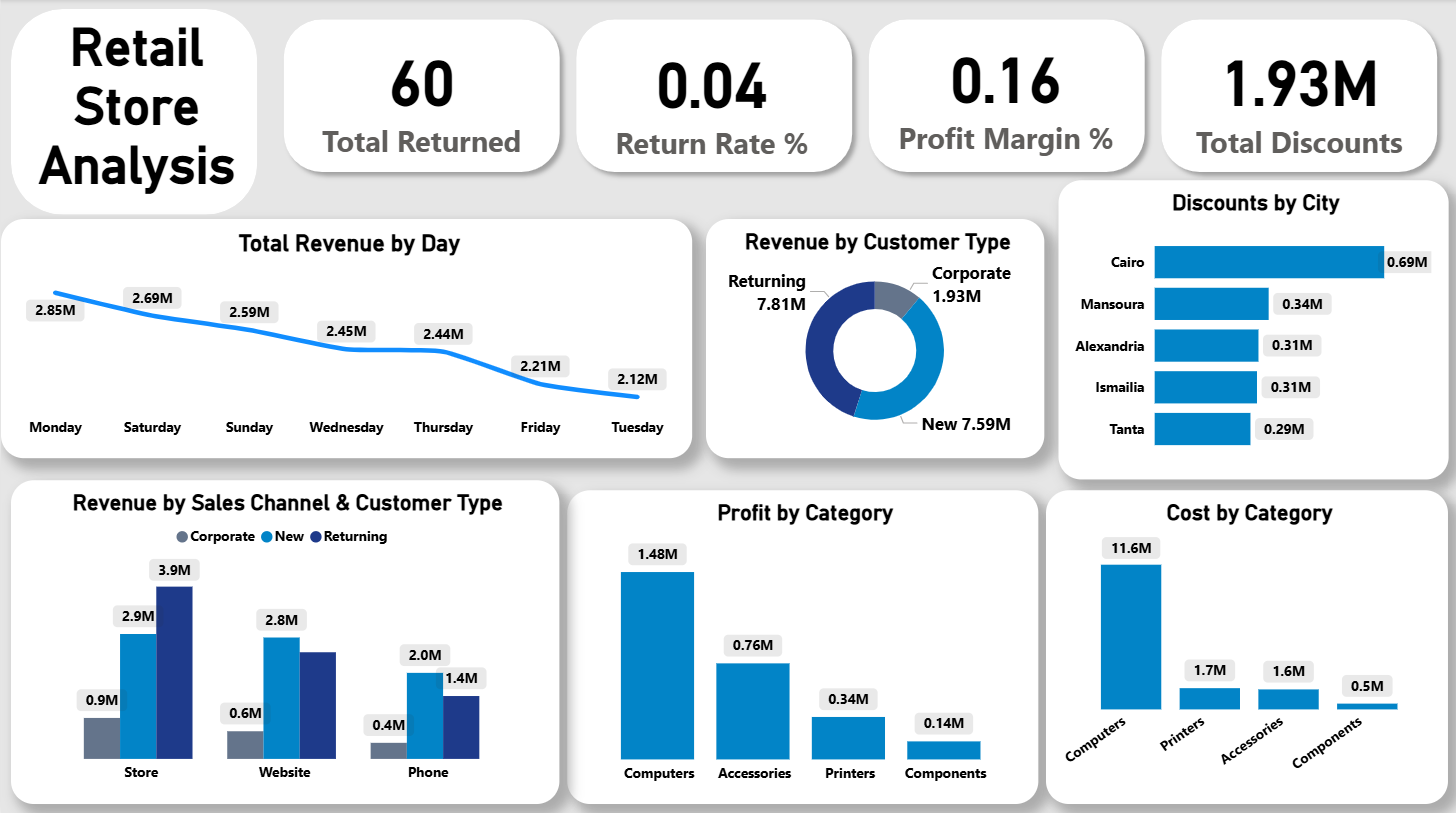

What the dashboard file says about the page in this screenshot:
{"tool":"powerbi","page":{"name":"Financial Analysis","canvas":[1280,720],"ordinal":1},"visuals":[{"type":"shape","box":[496.8,8.3,260.7,152.4],"z":0},{"type":"shape","box":[239.3,8.3,260.7,152.4],"z":1000},{"type":"shape","box":[8.3,8.3,216.7,181],"z":2000},{"type":"textbox","title":"Retail Store Analysis","box":[0,15.5,239.3,189.3],"z":3000},{"type":"card","fields":{"Values":["Measures (2).Total Returned"]},"box":[251.2,0,239.3,167.9],"z":4000},{"type":"shape","box":[1011.9,8.3,260.7,152.4],"z":5000},{"type":"shape","box":[754.4,8.3,260.7,152.4],"z":6000},{"type":"card","fields":{"Values":["Measures (2).Return Rate %"]},"box":[506,0,239.3,171.4],"z":7000},{"type":"card","fields":{"Values":["Measures (2).Profit Margin %"]},"box":[760.7,0,246.4,163.1],"z":8000},{"type":"card","fields":{"Values":["Measures (2).Total Discounts Given"]},"box":[1022.6,0,239.3,169],"z":9000},{"type":"columnChart","title":"Profit by Category","fields":{"Category":["data_detective_sales_training.Category"],"Y":["Measures (2).Total Profit"]},"box":[497.6,432.1,414.3,276.2],"z":10000},{"type":"lineChart","title":"Total Revenue by Day","fields":{"Category":["data_detective_sales_training.Day"],"Y":["Measures (2).Total Revenue"]},"box":[0,194,608.3,210.7],"z":11000},{"type":"clusteredColumnChart","title":"Revenue by Sales Channel & Customer Type","fields":{"Y":["Measures (2).Total Revenue"],"Series":["data_detective_sales_training.Customer_Type"],"Category":["data_detective_sales_training.Sales_Channel"]},"box":[8.3,423.8,482.1,284.5],"z":12000},{"type":"donutChart","title":"Revenue by Customer Type","fields":{"Y":["Measures (2).Total Revenue"],"Series":["data_detective_sales_training.Customer_Type"]},"box":[620.2,194,297.6,210.7],"z":13000},{"type":"barChart","title":"Discounts by City","fields":{"Y":["Measures (2).Total Discounts"],"Category":["data_detective_sales_training.Branch"]},"box":[929.8,159.5,342.9,263.1],"z":14000},{"type":"columnChart","title":"Cost by Category","fields":{"Category":["data_detective_sales_training.Category"],"Y":["Measures (2).Total Costs"]},"box":[919.1,432.1,353.6,276.2],"z":15000}]}

Visuals, with their boxes in screenshot pixels (x1, y1, x2, y2), scaled from the page's 1280x720 canvas onto the 1456x813 screenshot:
shape: crop(565, 9, 862, 181)
shape: crop(272, 9, 569, 181)
shape: crop(9, 9, 256, 214)
"Retail Store Analysis" textbox: crop(0, 18, 272, 231)
card - Measures (2).Total Returned: crop(286, 0, 558, 190)
shape: crop(1151, 9, 1448, 181)
shape: crop(858, 9, 1155, 181)
card - Measures (2).Return Rate %: crop(576, 0, 848, 194)
card - Measures (2).Profit Margin %: crop(865, 0, 1146, 184)
card - Measures (2).Total Discounts Given: crop(1163, 0, 1435, 191)
"Profit by Category" columnChart: crop(566, 488, 1037, 800)
"Total Revenue by Day" lineChart: crop(0, 219, 692, 457)
"Revenue by Sales Channel & Customer Type" clusteredColumnChart: crop(9, 479, 558, 800)
"Revenue by Customer Type" donutChart: crop(705, 219, 1044, 457)
"Discounts by City" barChart: crop(1058, 180, 1448, 477)
"Cost by Category" columnChart: crop(1045, 488, 1448, 800)
